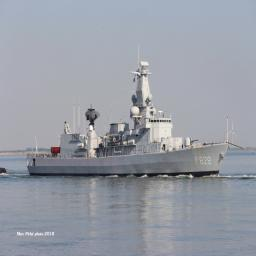Fragata: (26, 52, 231, 181)
